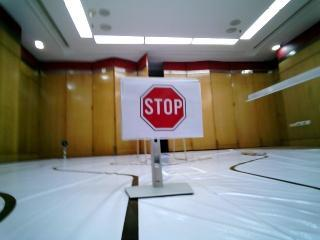stop: (129, 86, 202, 134)
